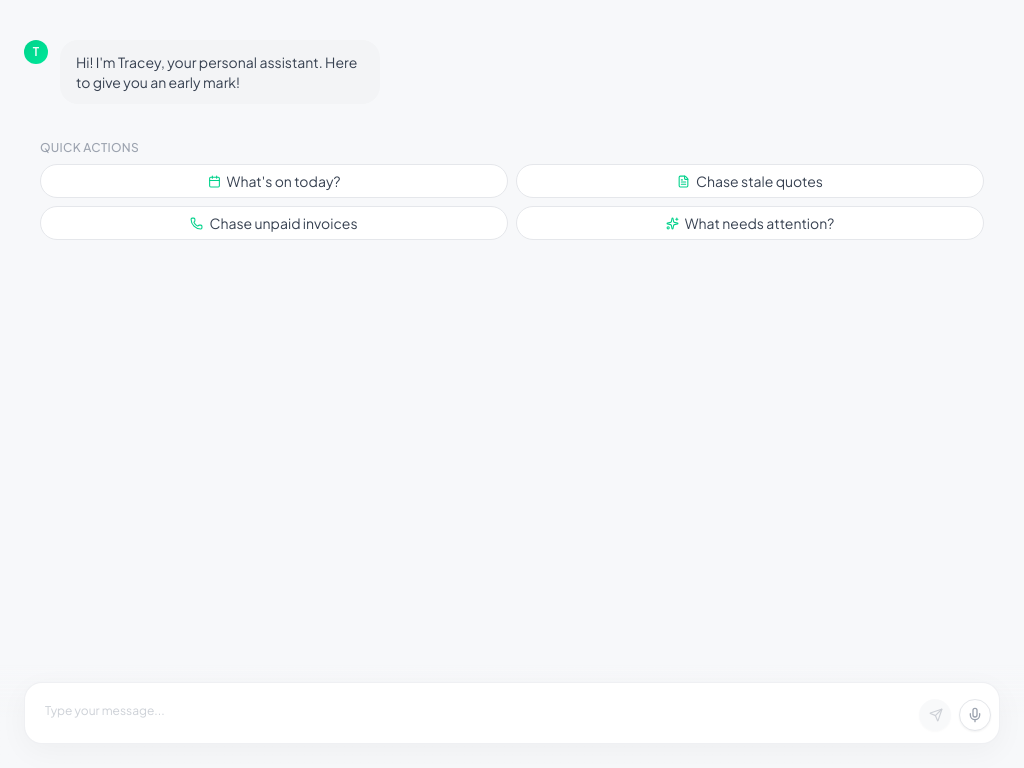
Scenario: ChatInterface › enables the send button when the message box has text
Type "Test message" into the text box labelled "message".
click(472, 713); type("Test message")  # box [33, 691, 911, 735]
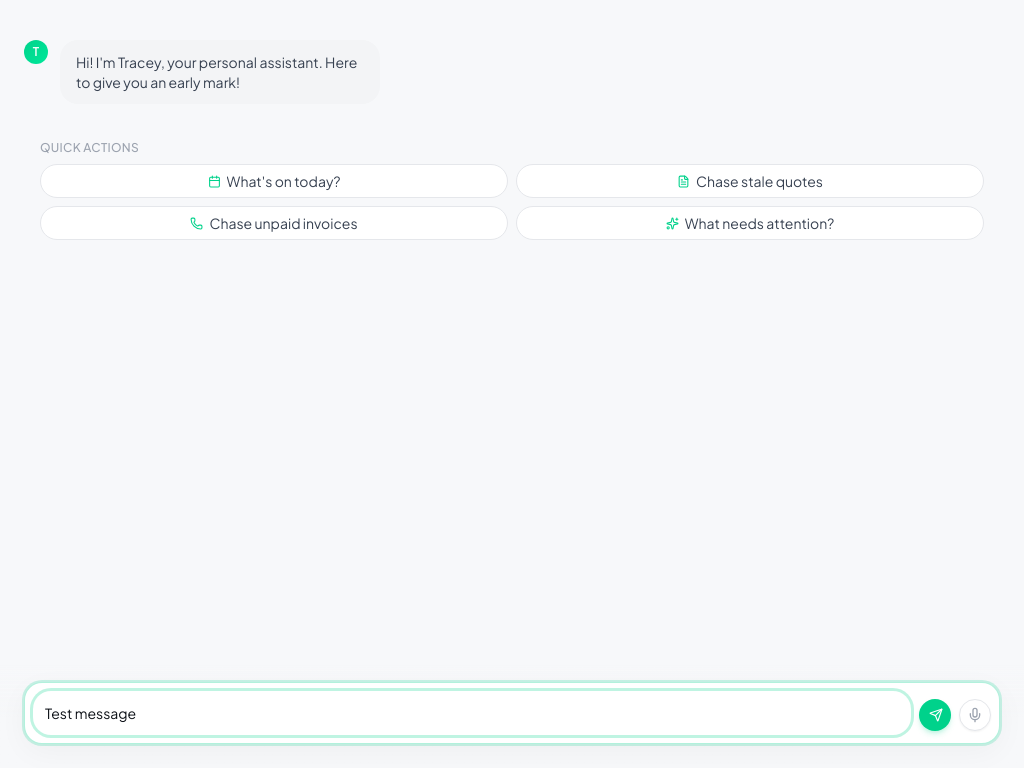
Check: the button named "Send message" is enabled, box [919, 699, 951, 731]
